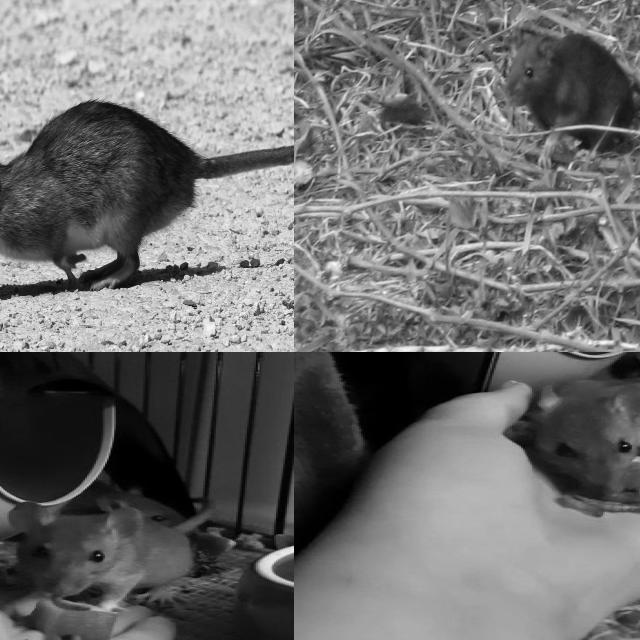rat: (0, 100, 194, 288), (7, 502, 208, 619), (507, 30, 632, 171), (524, 376, 640, 505), (83, 481, 195, 530)
